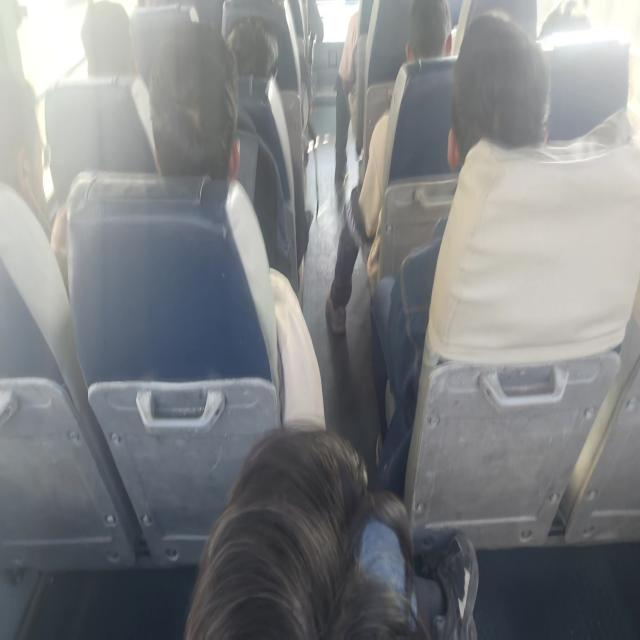person: (188, 412, 512, 640), (150, 50, 246, 218), (455, 29, 565, 165), (205, 10, 296, 118), (0, 43, 55, 219), (69, 0, 150, 89), (401, 0, 457, 72), (536, 0, 602, 40)
